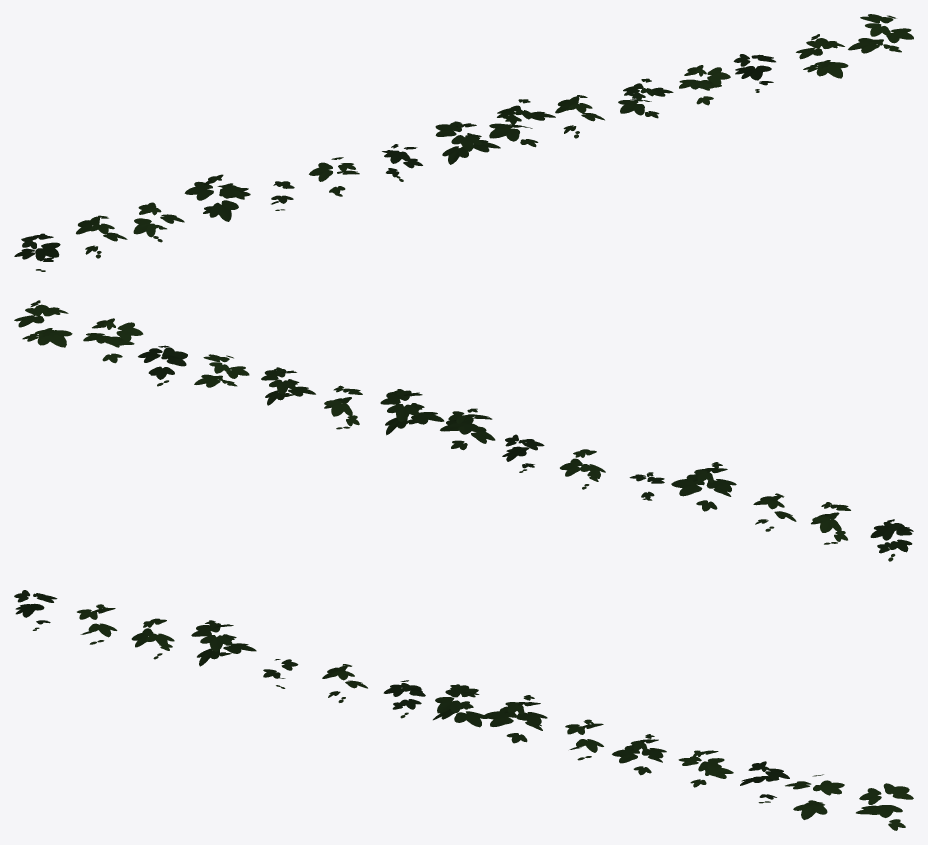
File: ROW_13_SEG4_foliage.dae
3 views of the same model, one above another, from view 1: azimuth 30°, elevation 25°; view 2: azimuth 150°, elevation 25°; view 3: azimuth 330°, elevation 25° (orthographic).
Parts seen in each view (by area): view 1: ROW_13_SEG4_foliage; view 2: ROW_13_SEG4_foliage; view 3: ROW_13_SEG4_foliage.
Boxes of the visible parts, bbox=[...] form: ROW_13_SEG4_foliage: bbox=[14, 14, 913, 271]; ROW_13_SEG4_foliage: bbox=[14, 300, 913, 561]; ROW_13_SEG4_foliage: bbox=[14, 590, 913, 830].
Bounding box in the file's own units: 4.49 × 0.3257 × 0.2457.
